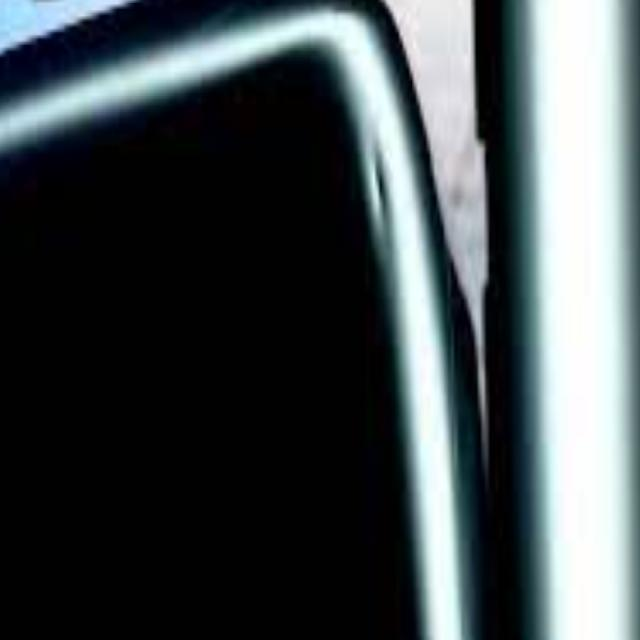dents: (353, 111, 408, 279)
